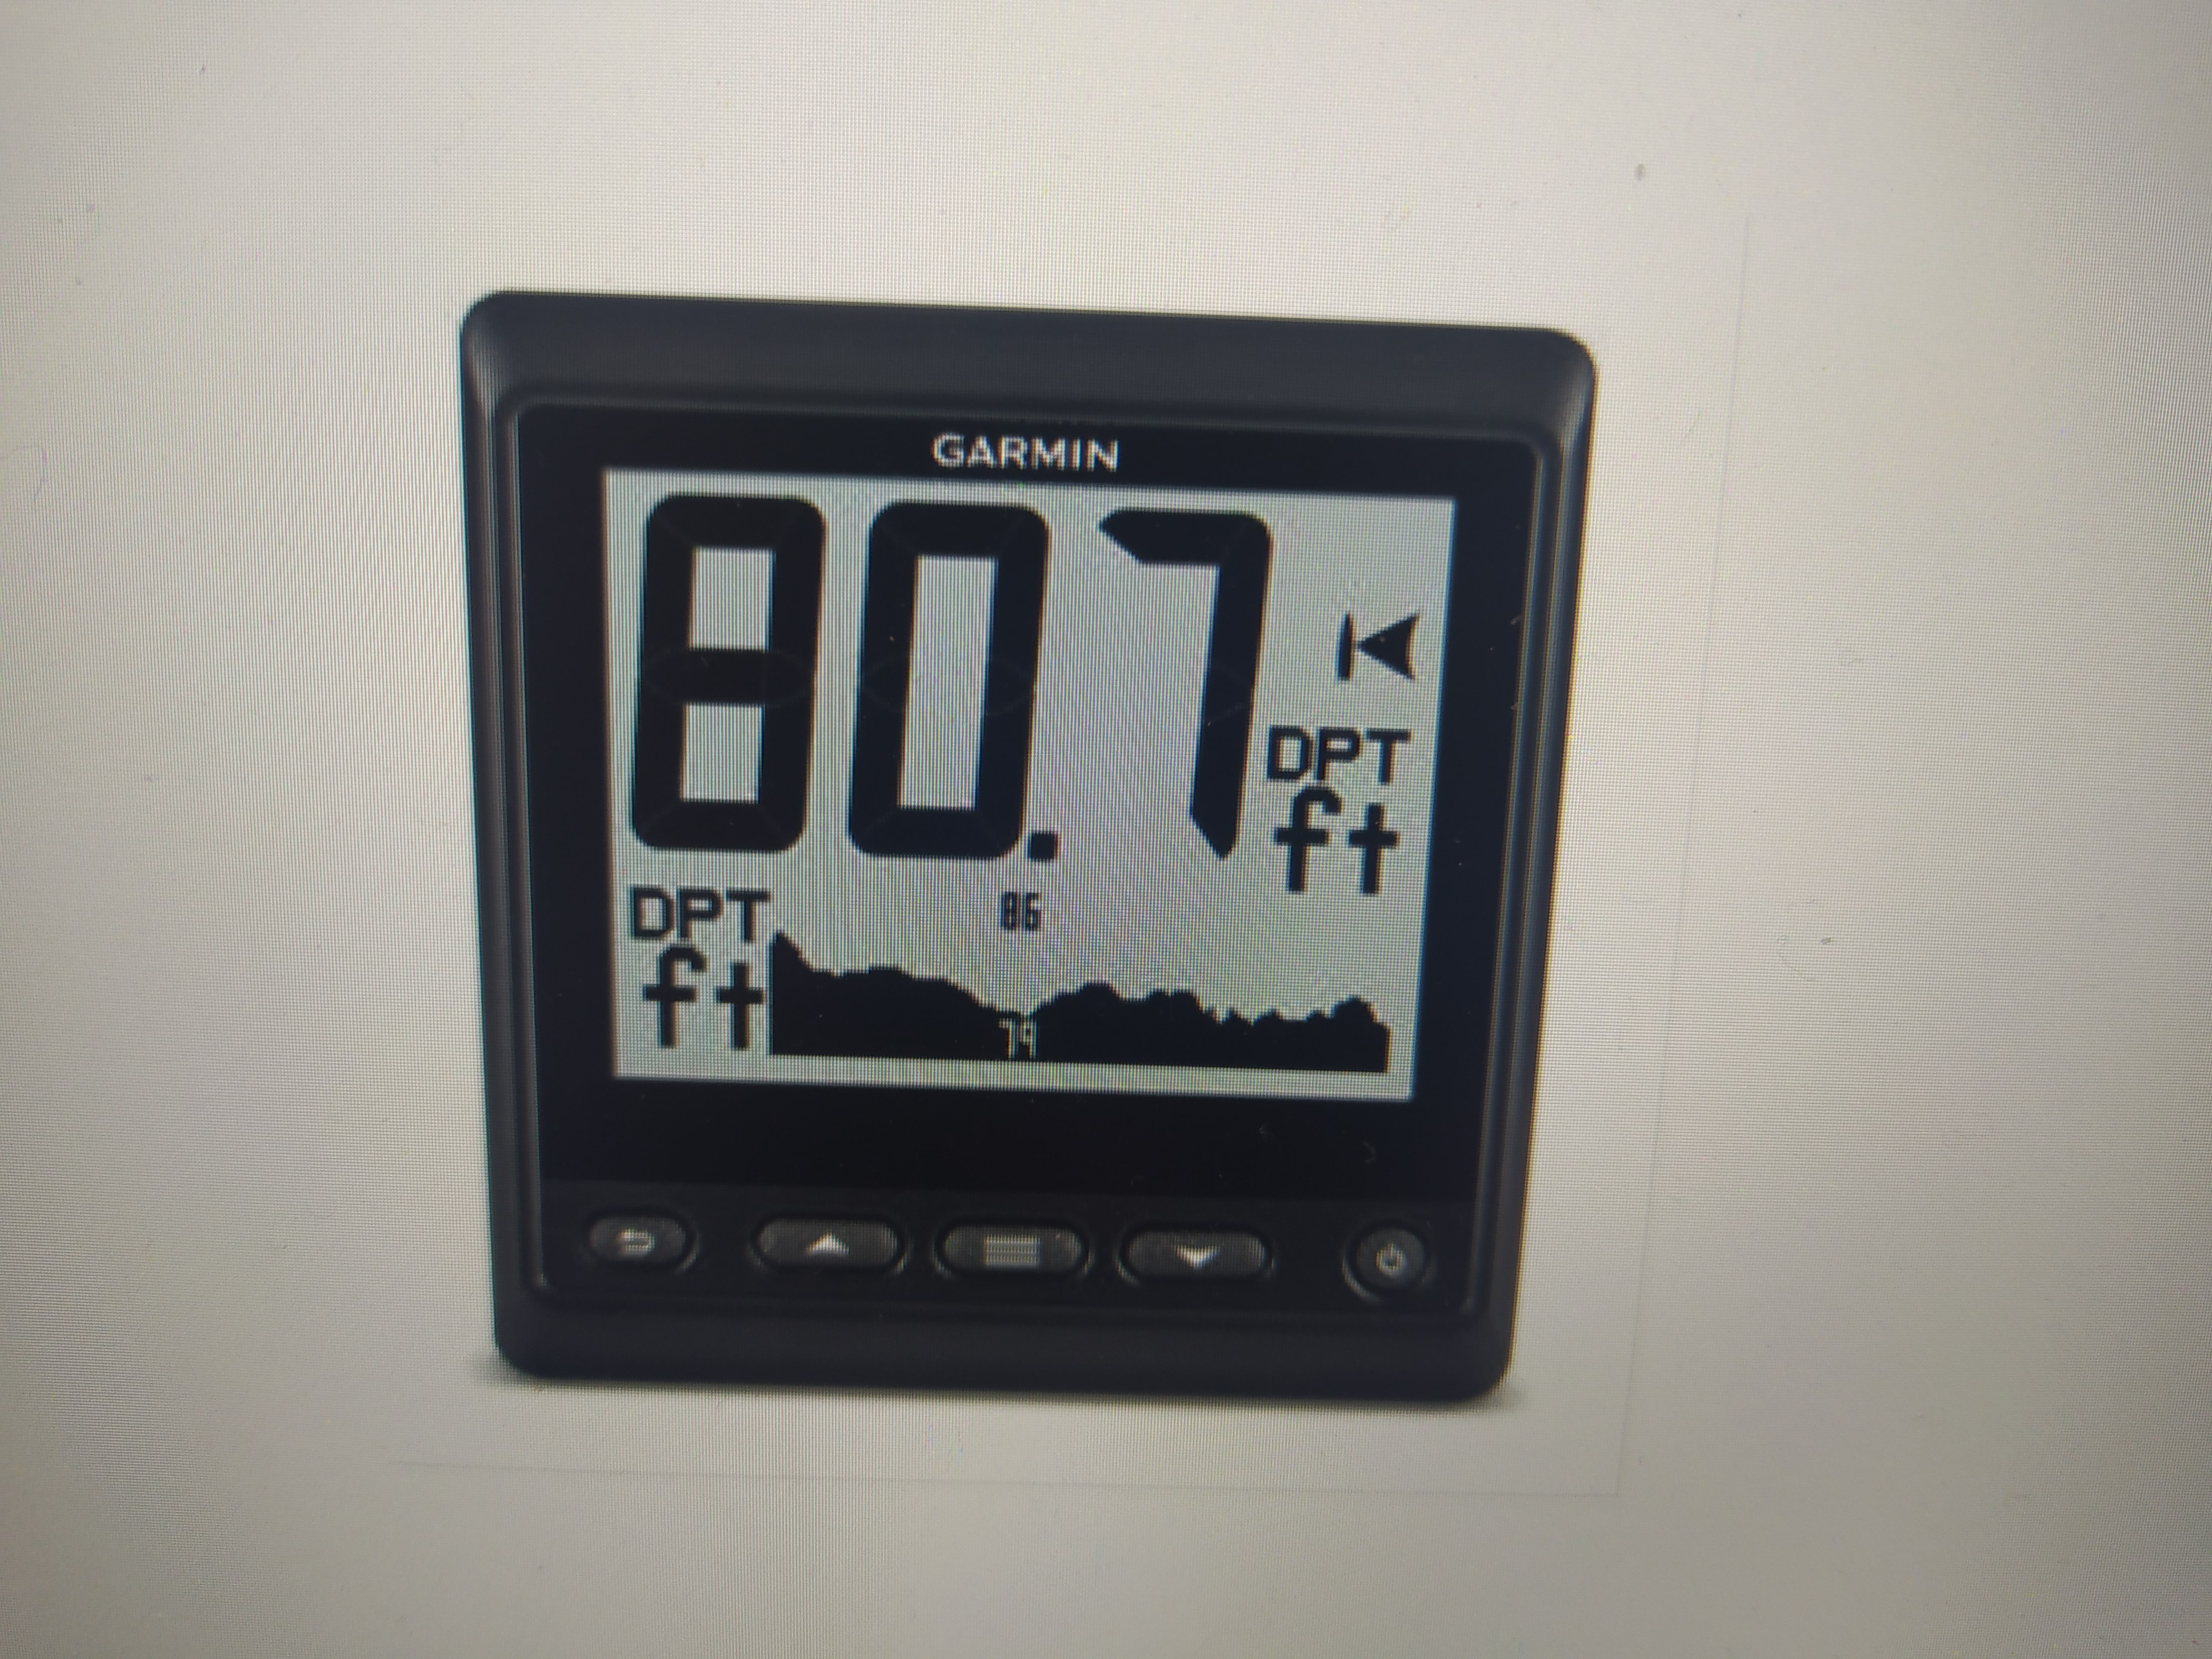.: (1031, 504, 1061, 861)
0: (850, 502, 1049, 859)
6: (1022, 890, 1042, 931)
7: (1096, 509, 1271, 863), (995, 1019, 1017, 1060)
8: (631, 495, 827, 856), (1000, 890, 1019, 931)
9: (1019, 1019, 1038, 1061)
